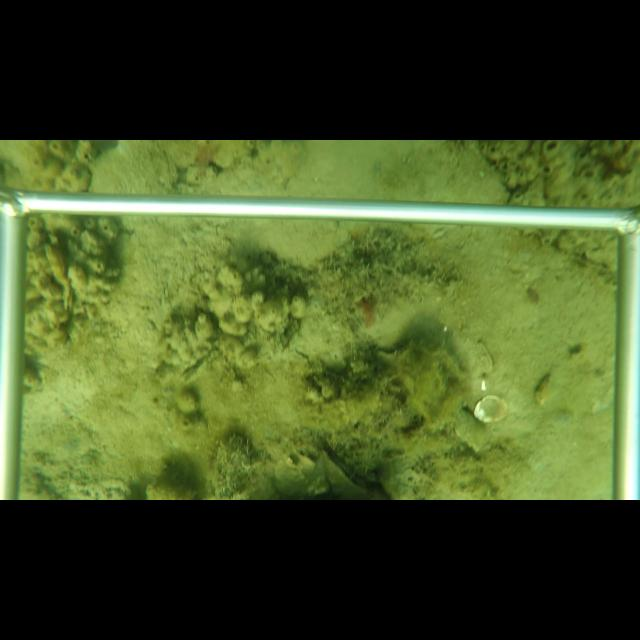Oyster-Open: (317, 438, 376, 496), (177, 351, 210, 385)
